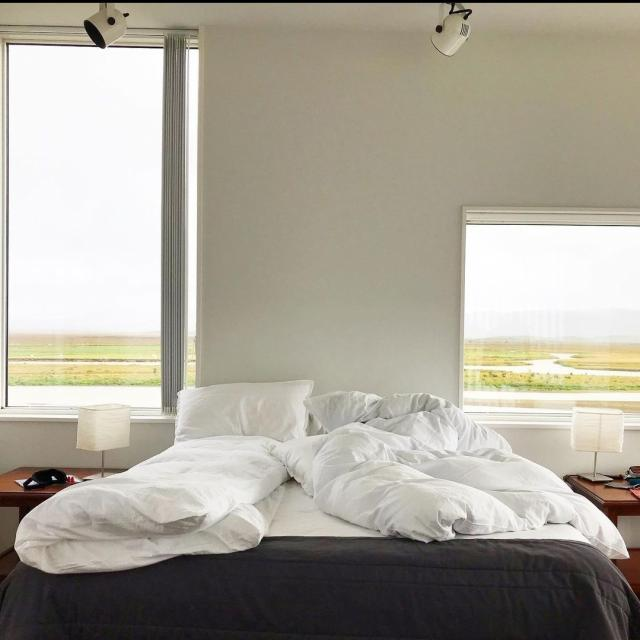bed: (34, 370, 602, 640)
